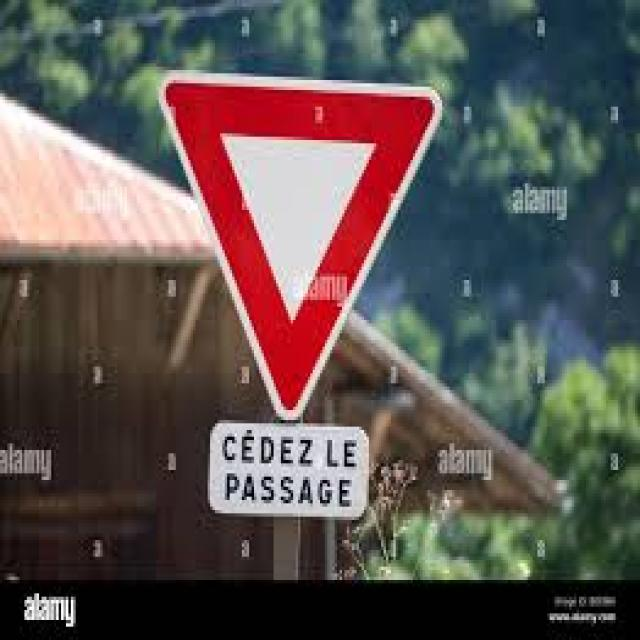Ceder-le-Passage: (158, 67, 448, 423)
